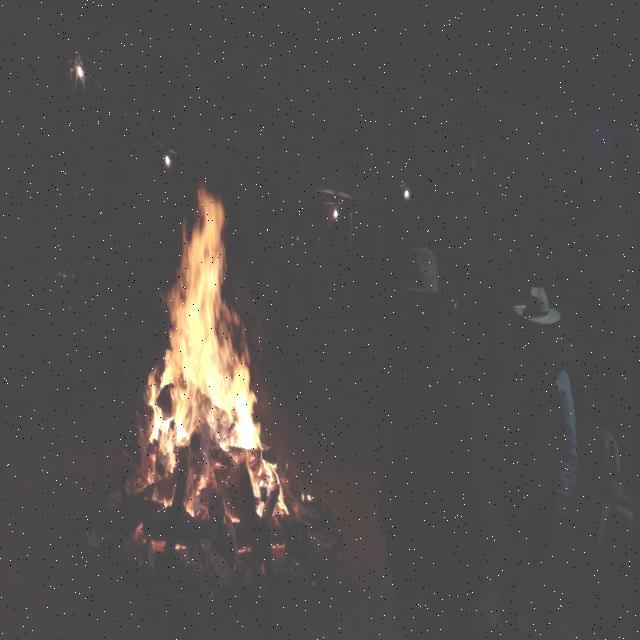Fire: (144, 168, 292, 530)
